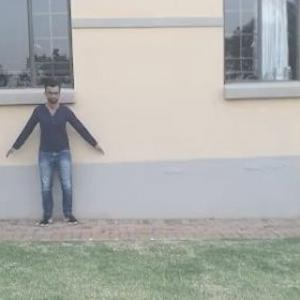land: (5, 80, 107, 236)
